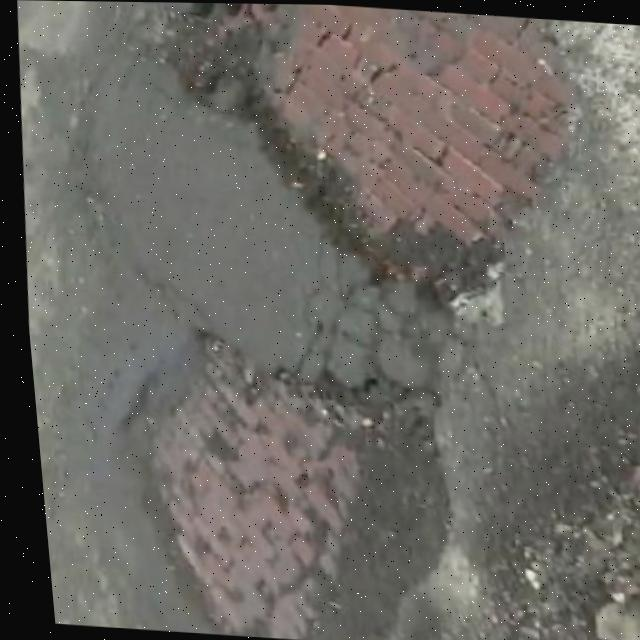Pothole: (140, 2, 585, 329), (98, 318, 458, 640)
